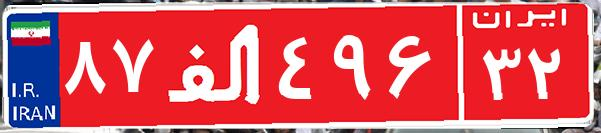2: (525, 38, 570, 115)
3: (475, 38, 525, 113)
4: (273, 28, 330, 110)
6: (385, 28, 445, 110)
7: (110, 28, 158, 105)
8: (57, 26, 110, 107)
9: (330, 28, 385, 110)
الف: (158, 15, 273, 115)
